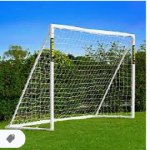goals: (8, 23, 137, 133)
